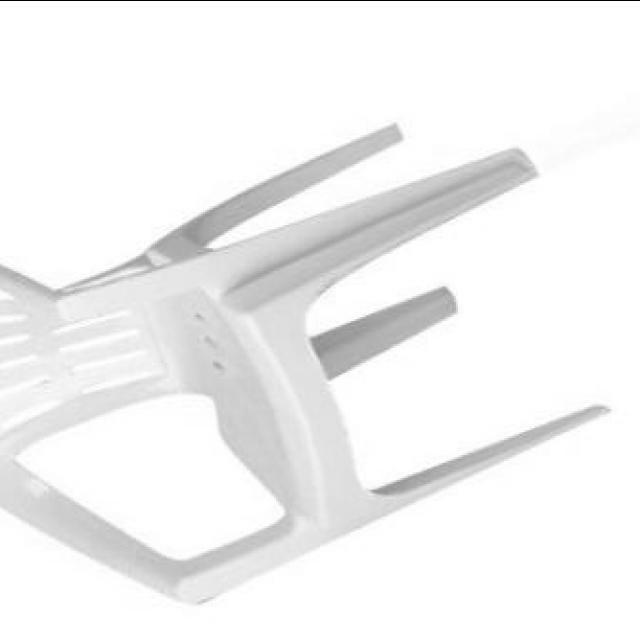chair: (0, 122, 613, 606)
